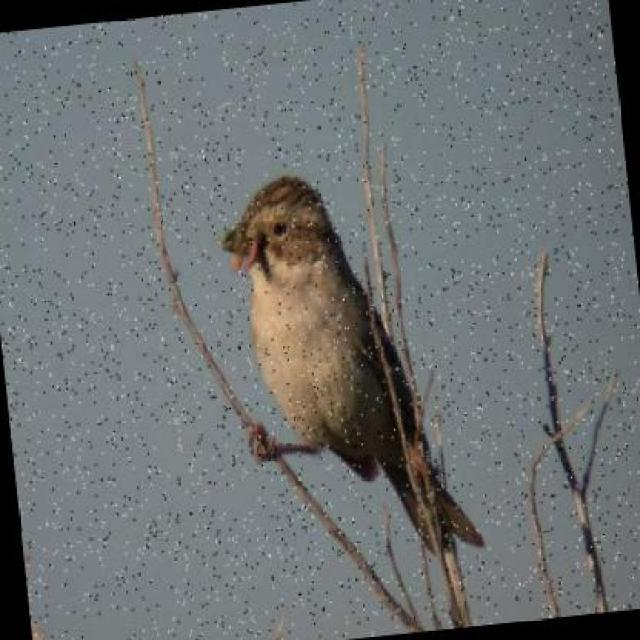Bird: (209, 163, 440, 511)
